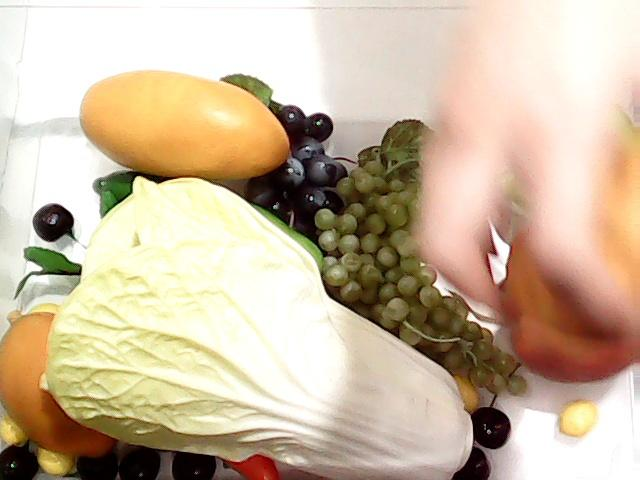carrot: (223, 449, 279, 479)
grape: (313, 159, 531, 398), (247, 103, 346, 237)
lemon: (1, 305, 124, 467)
mango: (59, 54, 304, 182)
napa cabbage: (43, 175, 464, 480)
peach: (507, 235, 640, 384)
pepper: (92, 160, 328, 296)
potato: (542, 125, 640, 314)
